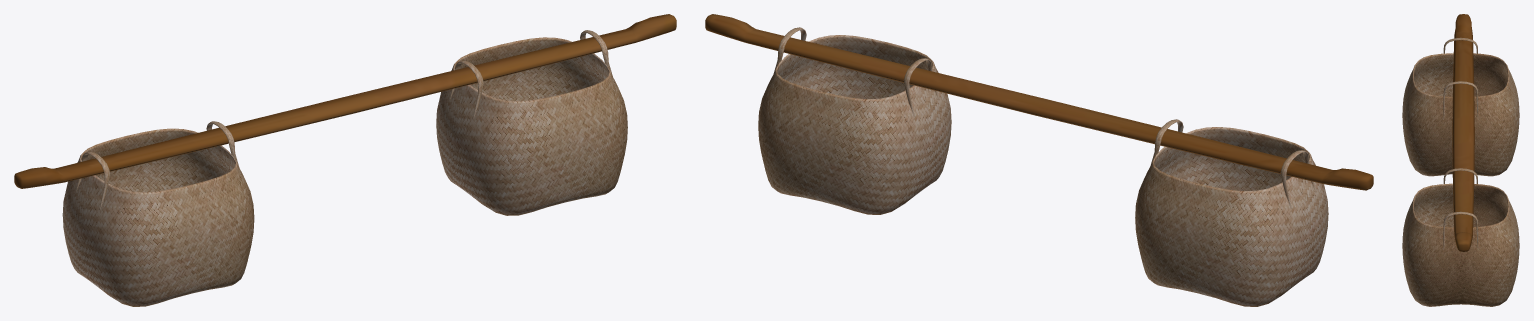
Rendered from ganh_thoc.gltf.
3 views of the same model, side by side, from view 1: azimuth 30°, elevation 25°; view 2: azimuth 150°, elevation 25°; view 3: azimuth 270°, elevation 25° (orthographic). The views are drawn at different scales.
Visible parts, largest first — view 1: Box001, Box004, Box003; view 2: Box001, Box004, Box003; view 3: Box004, Box001, Box003.
Part boxes in pixels (x1,y1,x2,y2): Box001: (62,121,254,306); Box004: (436,30,627,215); Box003: (14,14,676,188); Box001: (1135,119,1328,306); Box004: (758,27,951,214); Box003: (705,14,1373,190); Box004: (1402,168,1519,306); Box001: (1402,37,1519,176); Box003: (1452,14,1474,251).
Bounding box in the file's own units: 5.93 × 1.17 × 1.28.
3 materials, 3 textured.
